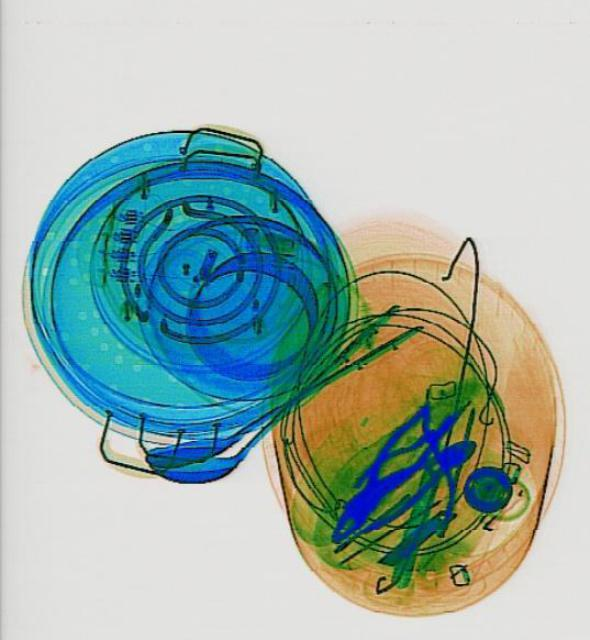Pliers: (313, 394, 456, 554), (319, 424, 482, 554)
